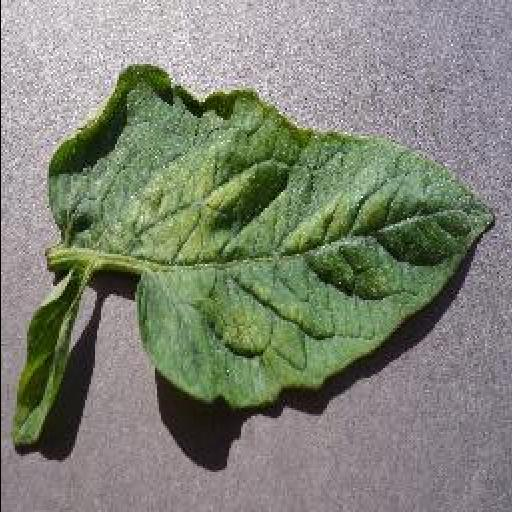disease_tomato: (50, 63, 496, 408)
